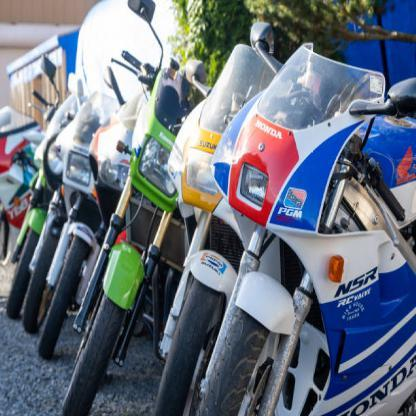Motorcycle: (197, 32, 415, 415)
